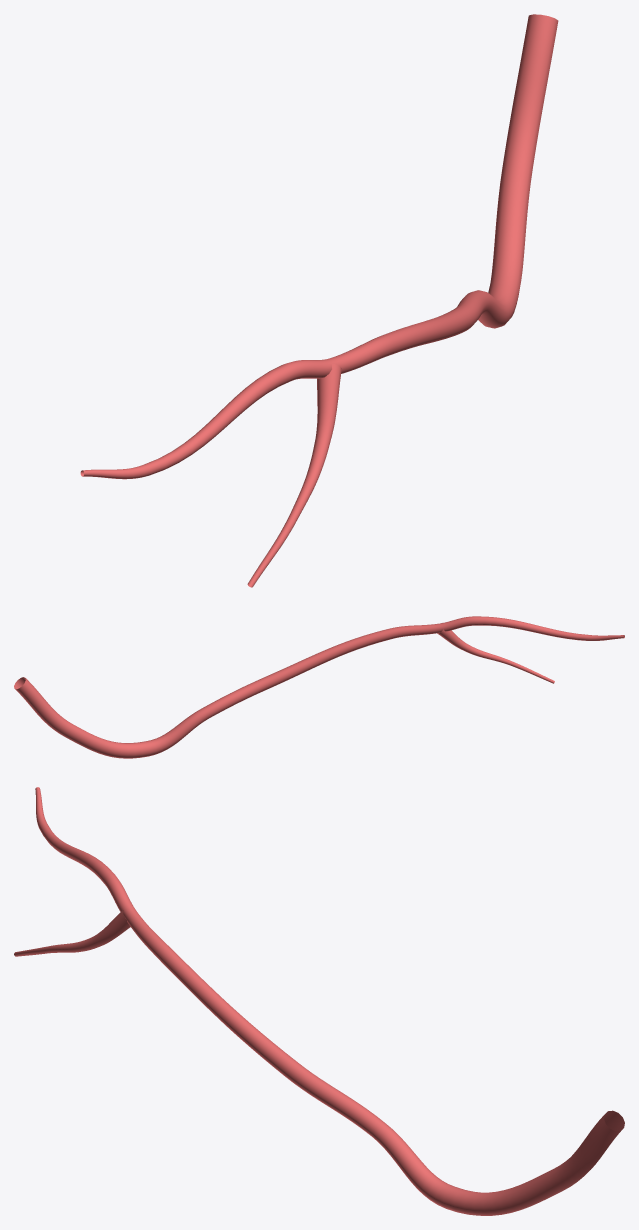
File: Superior_labial_artery.l_BezierCurve.265.glb
3 views of the same model, one above another, from view 1: azimuth 30°, elevation 25°; view 2: azimuth 150°, elevation 25°; view 3: azimuth 270°, elevation 25° (orthographic). The views are drawn at different scales.
Visible parts, largest first — view 1: Superior_labial_artery.l_BezierCurve.265; view 2: Superior_labial_artery.l_BezierCurve.265; view 3: Superior_labial_artery.l_BezierCurve.265.
Part boxes in pixels (bbox=[...]): Superior_labial_artery.l_BezierCurve.265: bbox=[80, 14, 558, 587]; Superior_labial_artery.l_BezierCurve.265: bbox=[14, 616, 624, 758]; Superior_labial_artery.l_BezierCurve.265: bbox=[14, 787, 624, 1215].
Bounding box in the file's own units: 0.0315 × 0.00793 × 0.0255.
